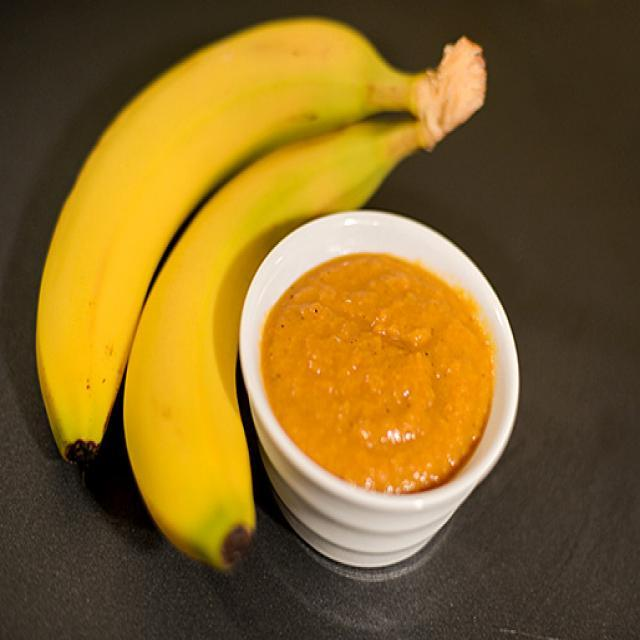banana: (29, 6, 416, 456), (124, 106, 448, 584)
